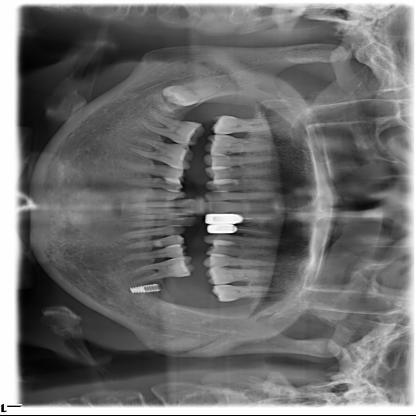Bicon: (129, 284, 163, 296)
